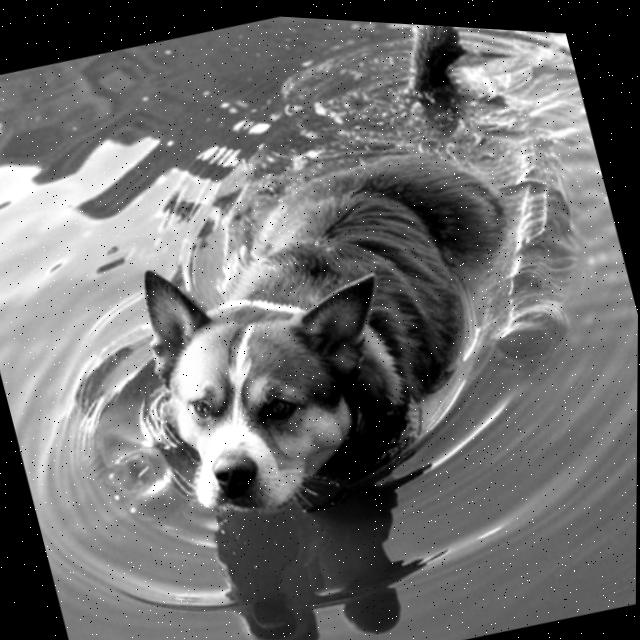dog: (16, 1, 608, 587)
